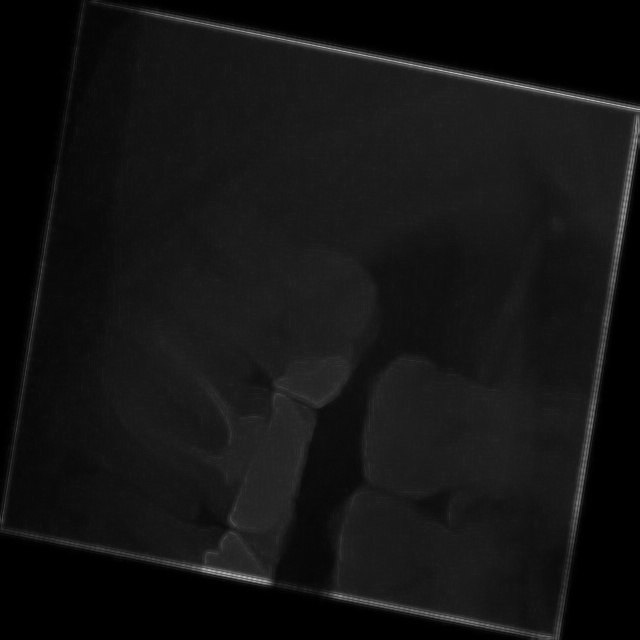Class 1- complete endodontic treatment: (54, 287, 363, 553)
